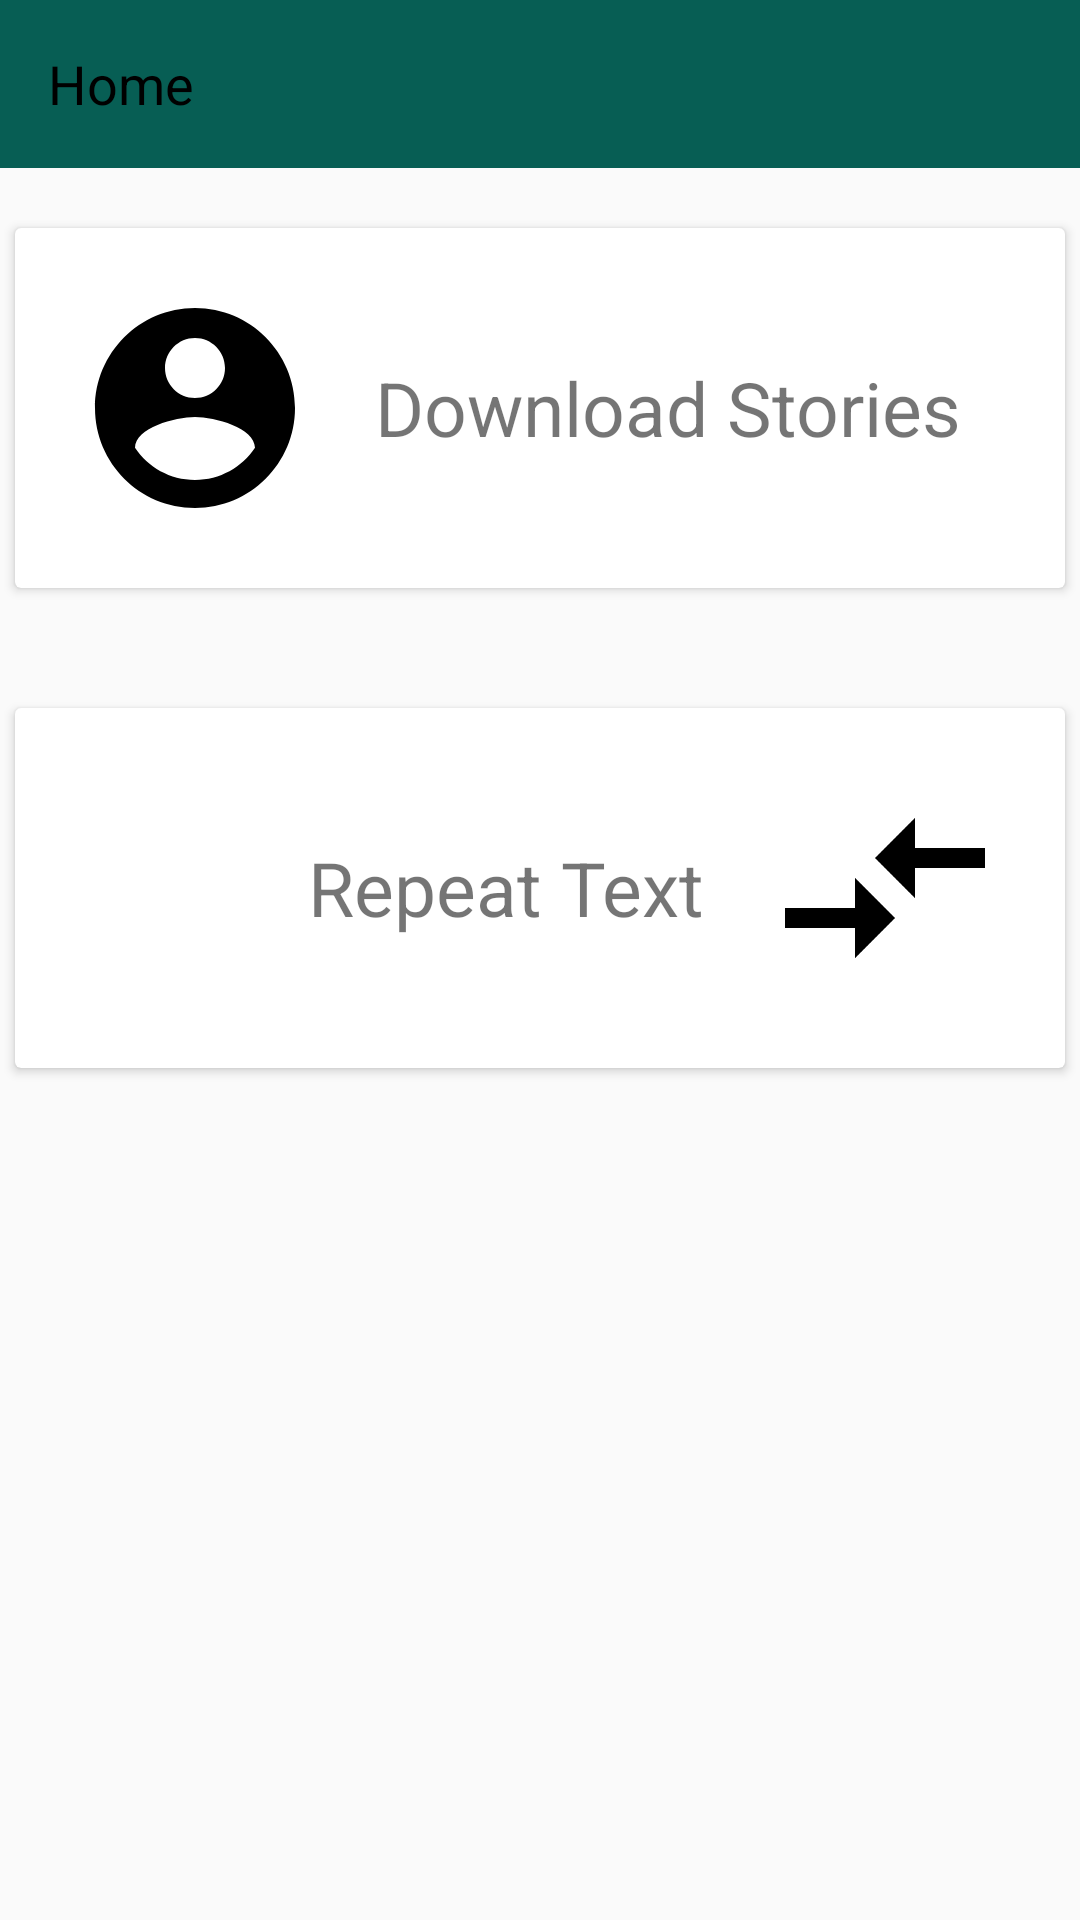

Named icons in this screenshot (1080w x 1920h) and their bounding boxes, bbox(x1, y1, x2, y2):
account circle: bbox(94, 308, 295, 508)
compare arrows: bbox(785, 818, 985, 958)
